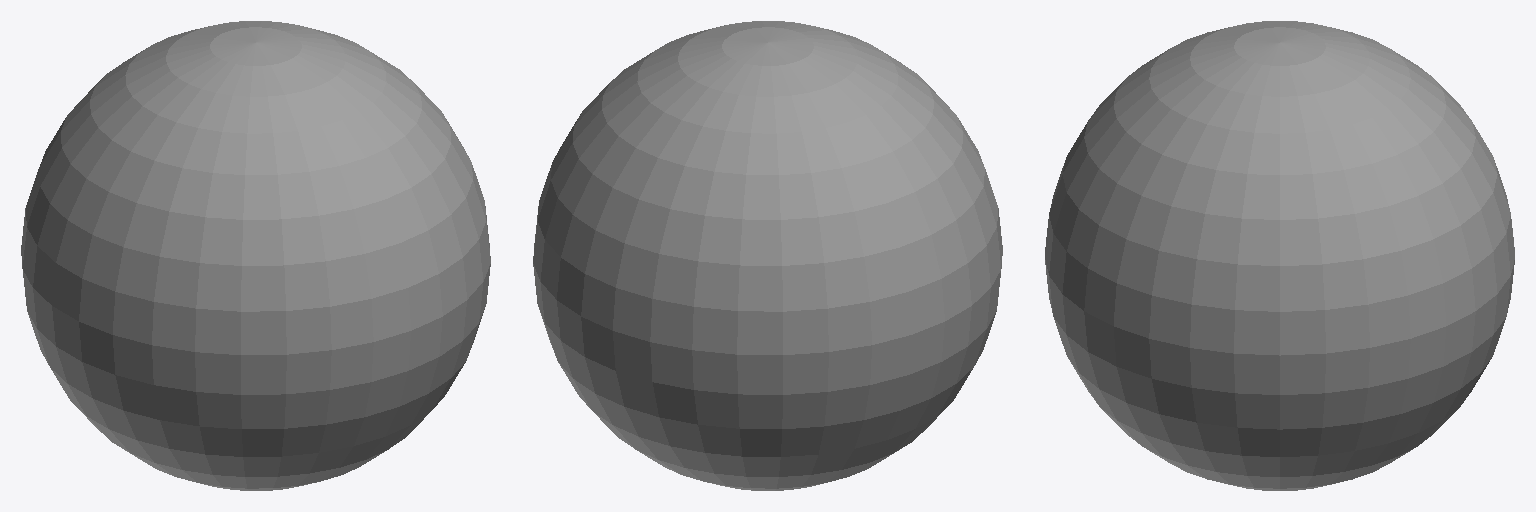
File: marble.obj
3 views of the same model, side by side, from view 1: azimuth 30°, elevation 25°; view 2: azimuth 150°, elevation 25°; view 3: azimuth 270°, elevation 25° (orthographic).
Parts seen in each view (by area): view 1: Sphere; view 2: Sphere; view 3: Sphere.
Part boxes in pixels (x1,y1,x2,y2): Sphere: (21,21,490,490); Sphere: (533,21,1002,490); Sphere: (1045,21,1514,490).
Bounding box in the file's own units: 2 × 2 × 2.